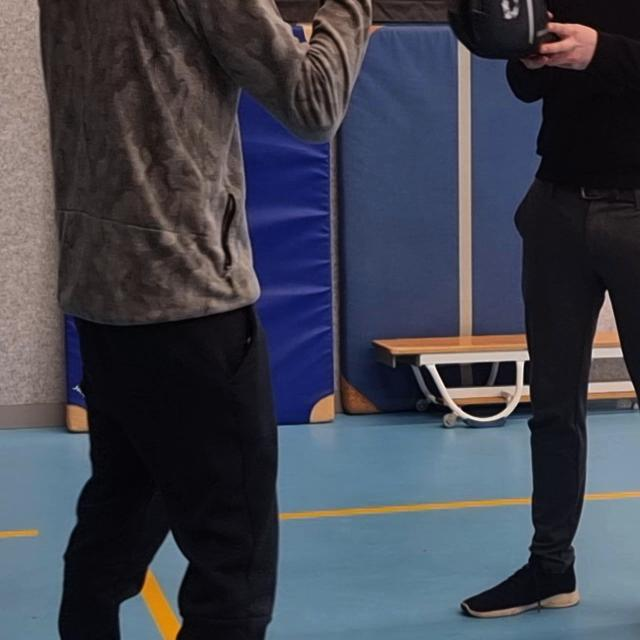paddle: (446, 0, 555, 58)
